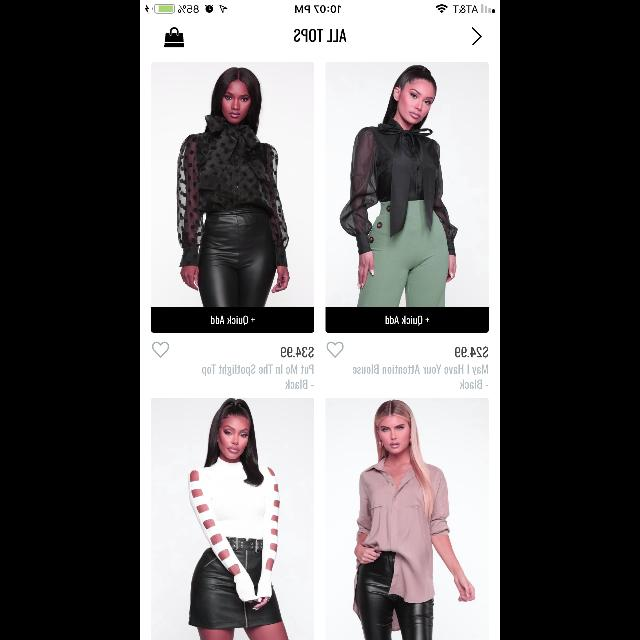icon: (164, 28, 184, 48), (326, 342, 344, 358), (153, 342, 170, 358), (472, 27, 482, 45)
image: (150, 63, 314, 307), (150, 398, 314, 640), (326, 63, 488, 307), (326, 398, 488, 640)
text: (352, 365, 488, 389), (202, 364, 314, 390), (294, 30, 346, 42), (280, 346, 314, 358), (454, 346, 488, 358)
textbutton: (150, 307, 314, 333), (326, 307, 488, 333)
uppertaskbar: (140, 0, 500, 14)
